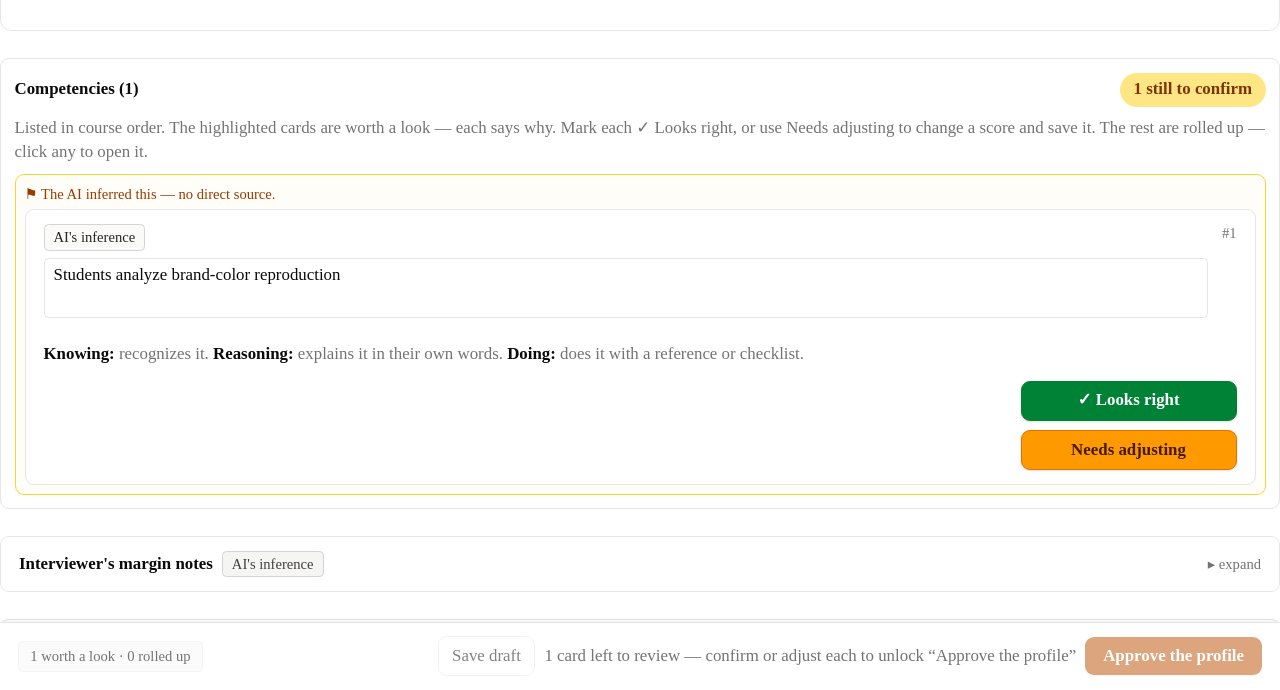
Test case: a raise saved with evidence through Change › never shows the "why?" box and is not counted as needing a reason
Click the button "Needs adjusting": x=1128, y=450 [1020,430,1236,470]
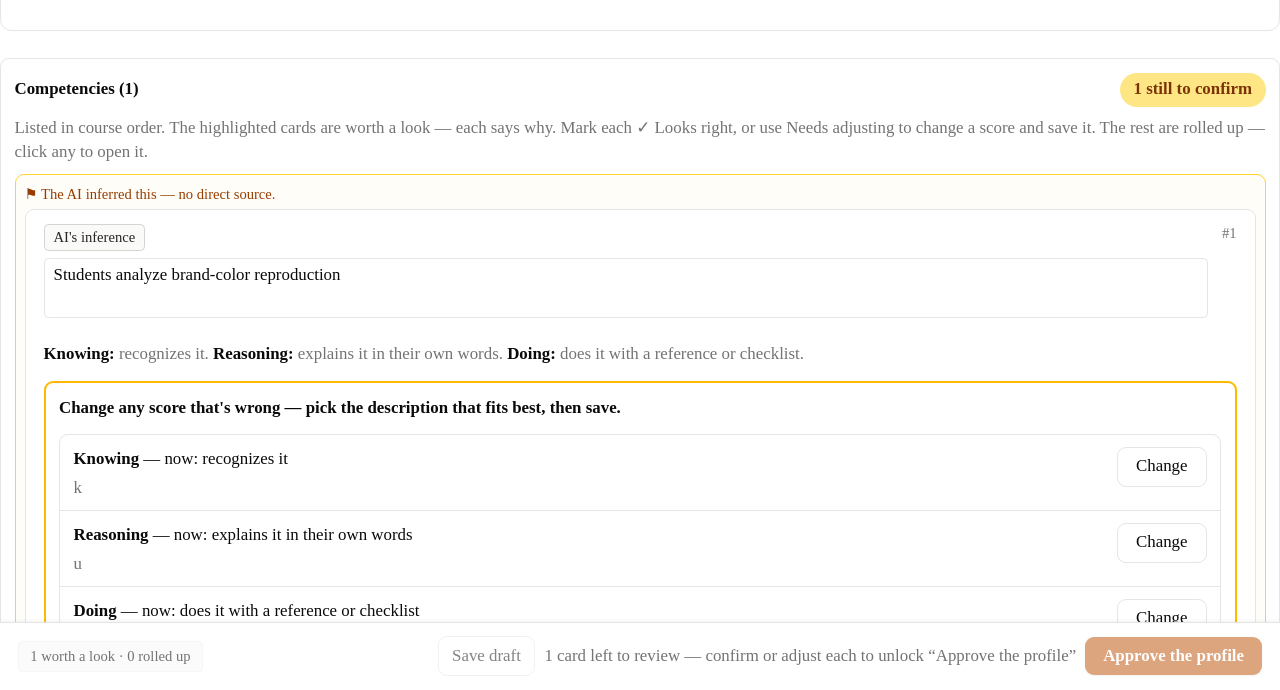
Click the 3rd button "Change": x=1162, y=619 [1117,598,1206,639]
(page scrolled)
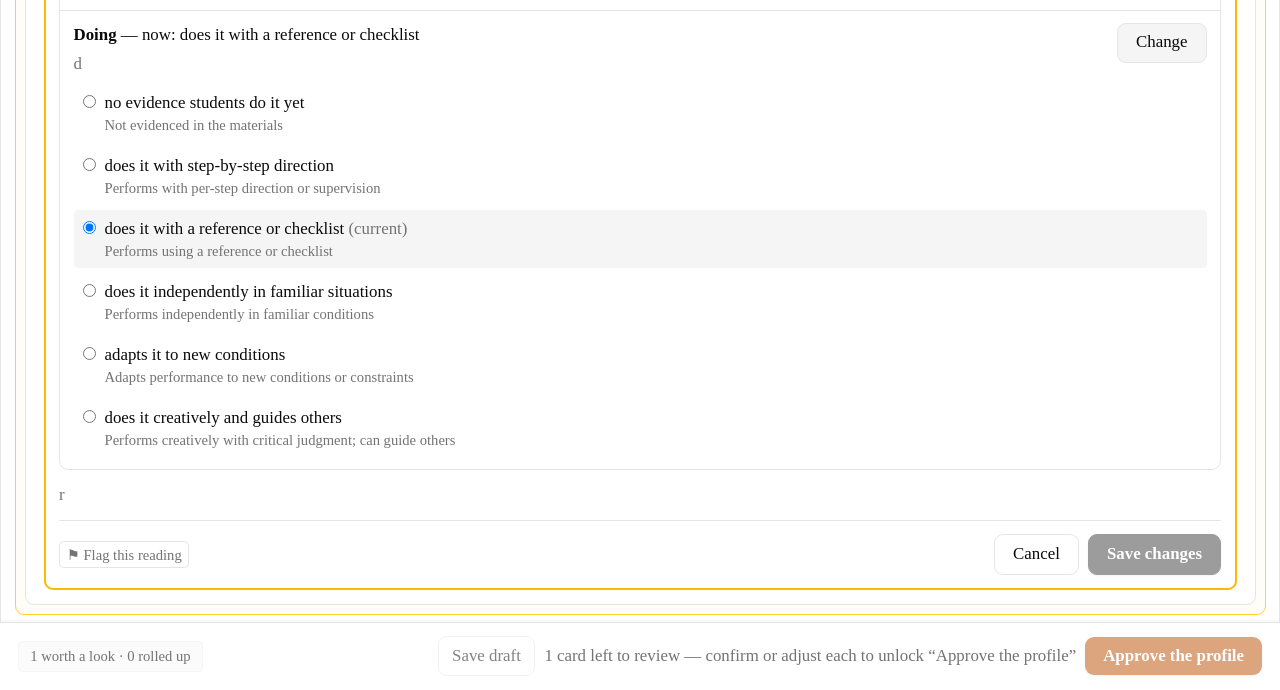
Click the radio button labelled "does it independently in familiar situations": x=89, y=291 [82,284,96,297]
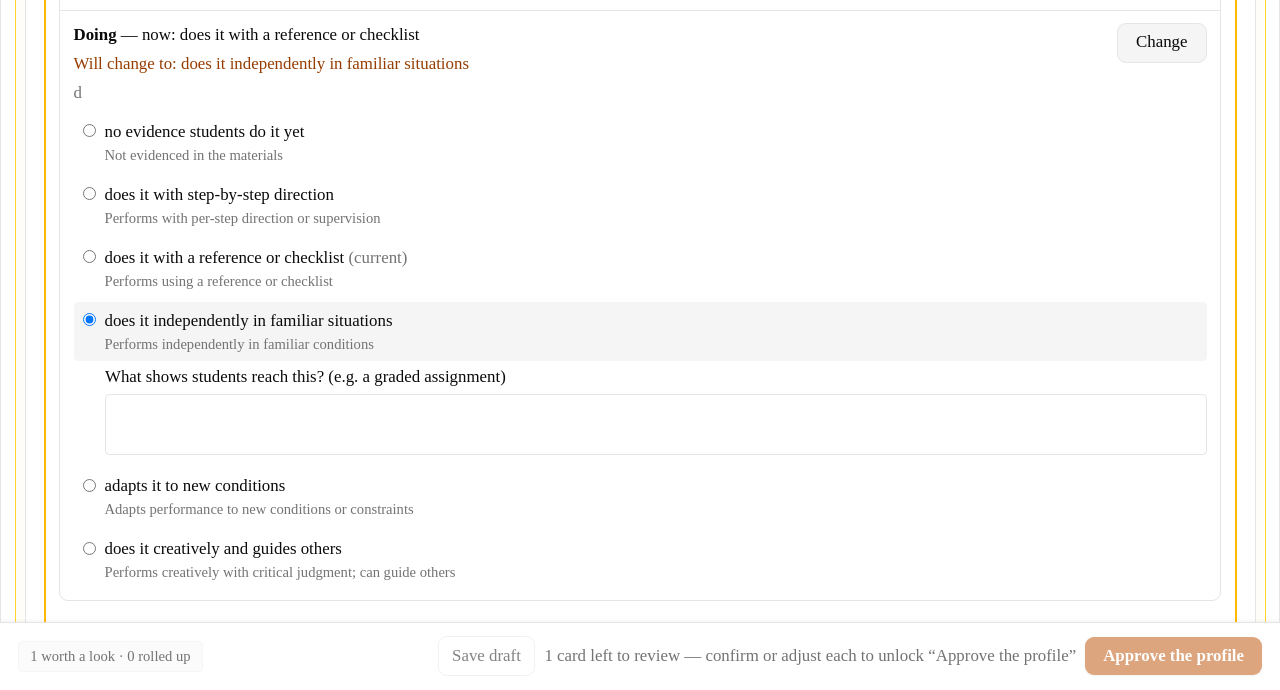
In the text box labelled "What shows students reach this? (e.g. a graded assignment)": x=656, y=425 [105,394,1206,455], type "capstone press checks"
(page scrolled)
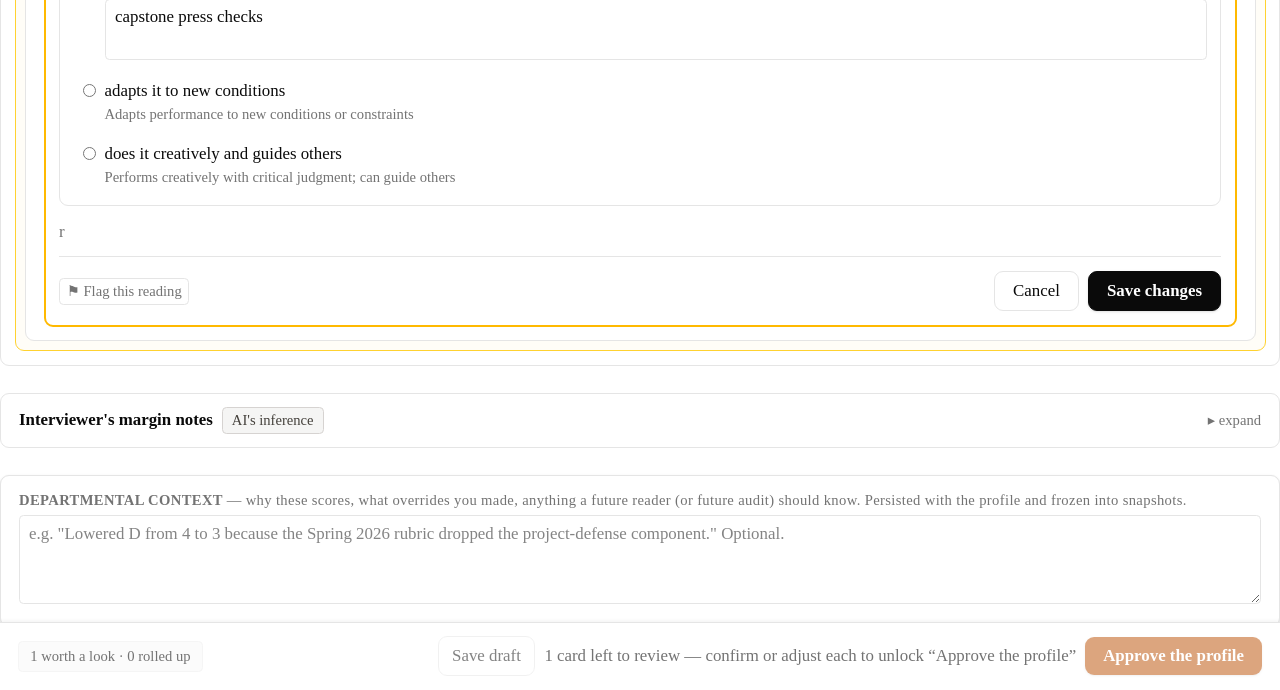
Click the button "Save changes": x=1154, y=291 [1088,271,1221,311]
(page scrolled)
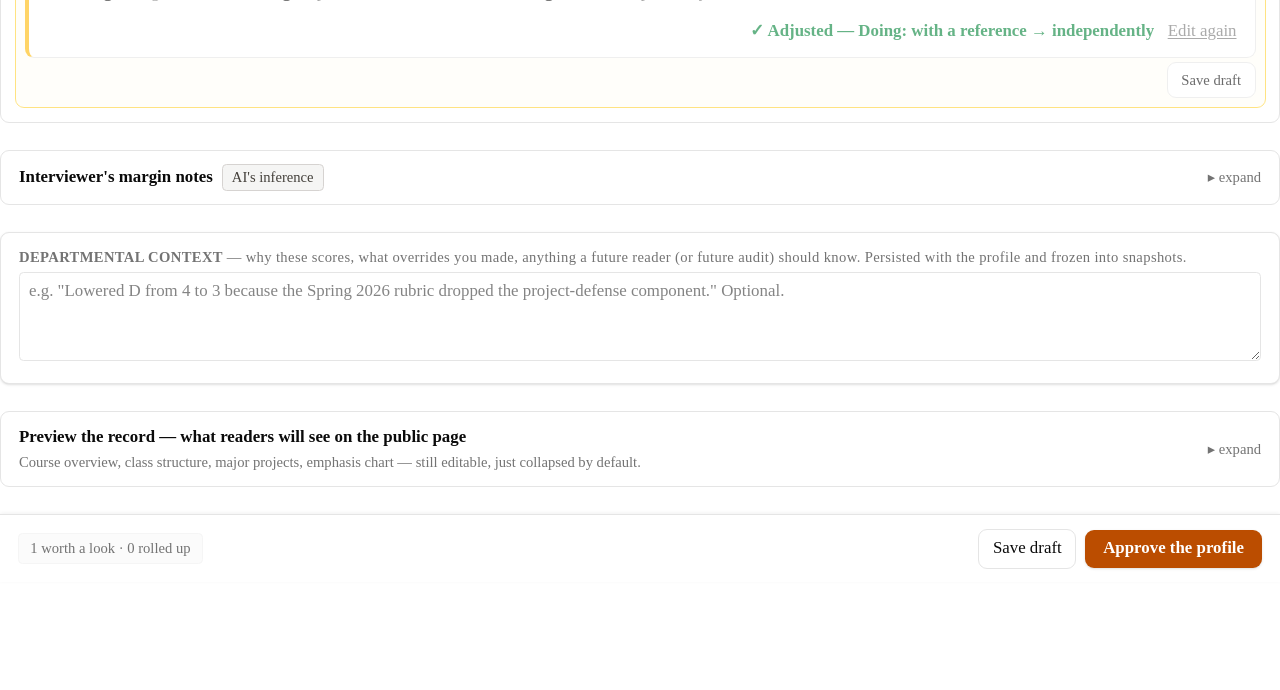
Check: the button "Approve the profile" is enabled, box [1085,530,1262,568]
